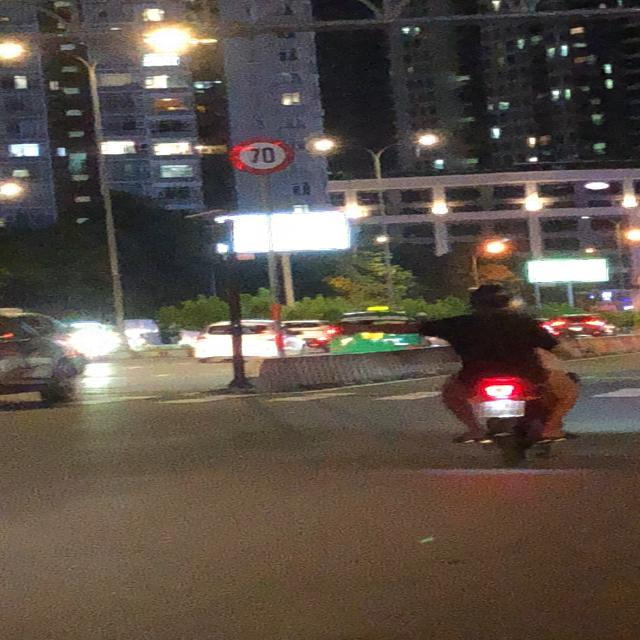Bien bao toc do toi da cho phep: (229, 136, 291, 174)
